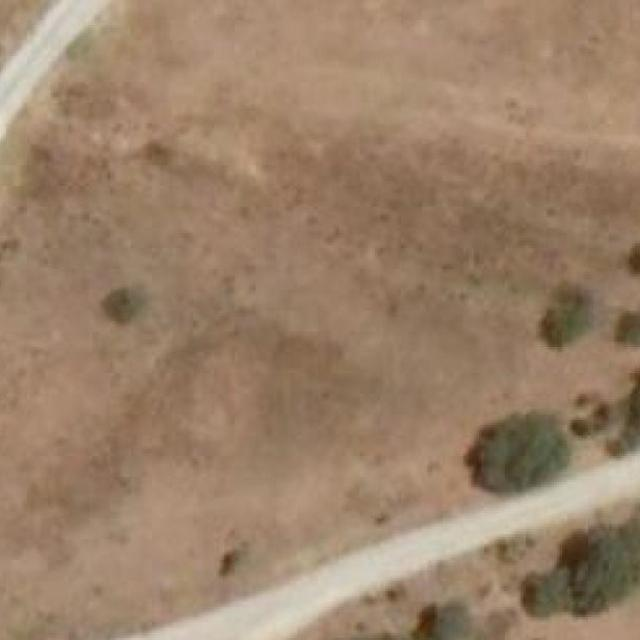Tree: (557, 522, 640, 615), (469, 410, 562, 492), (600, 366, 640, 449), (536, 290, 593, 342), (568, 388, 612, 442), (510, 576, 557, 626), (411, 601, 468, 640), (100, 283, 144, 327), (313, 623, 411, 640), (616, 311, 640, 349), (619, 236, 640, 275)
